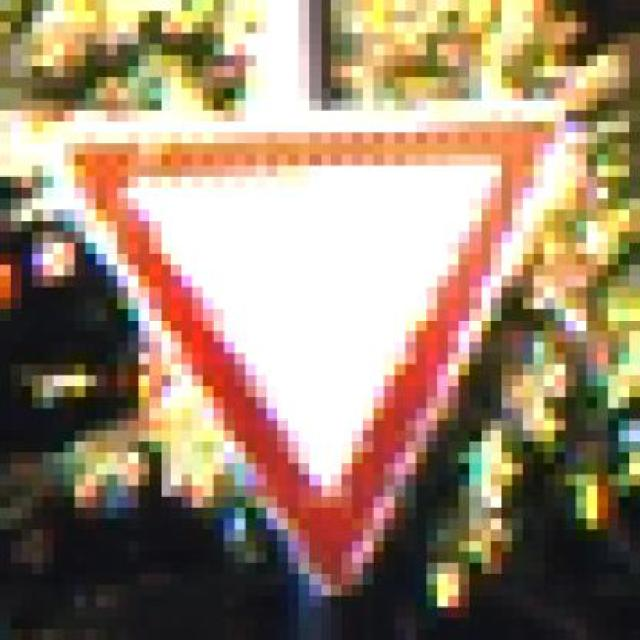Give Way: (21, 99, 587, 607)
